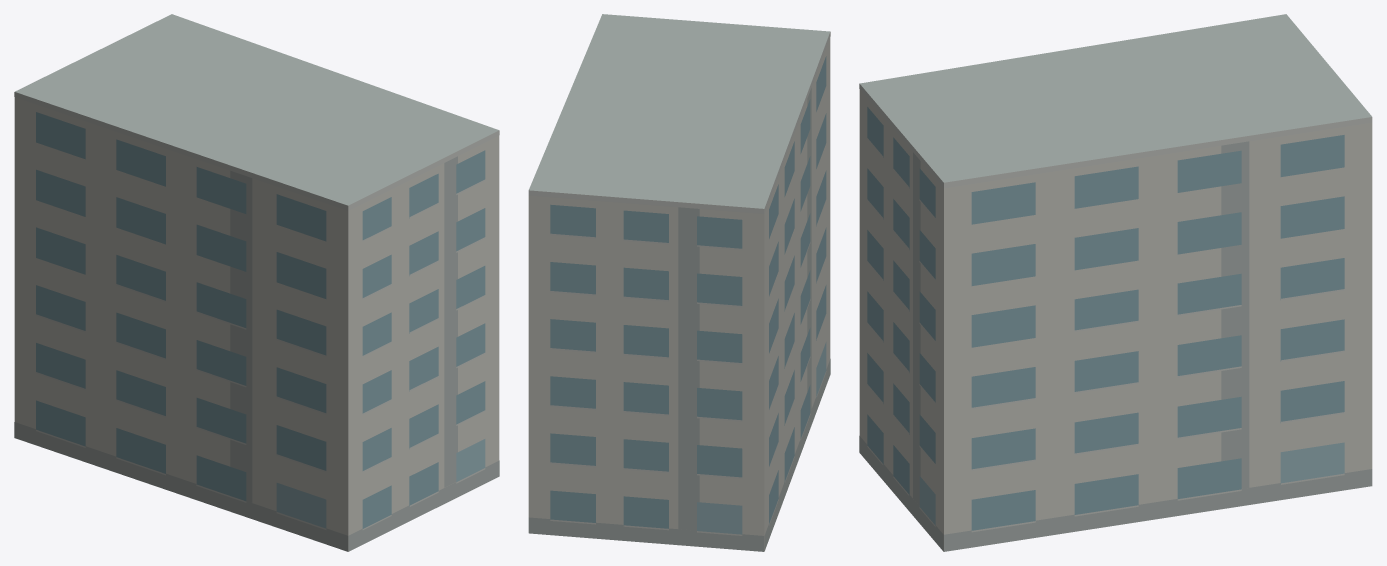
The model's file is survey-upis-33000994.glb.
3 renders of one model, left to right at view 1: azimuth 30°, elevation 25°; view 2: azimuth 150°, elevation 25°; view 3: azimuth 270°, elevation 25°, orthographic. The views are drawn at different scales.
Parts seen in each view (by area): view 1: survey-upis-33000994.tmp; view 2: survey-upis-33000994.tmp; view 3: survey-upis-33000994.tmp.
Boxes of the visible parts, x1,y1,x2,y2 form: survey-upis-33000994.tmp: [14, 14, 499, 551]; survey-upis-33000994.tmp: [528, 14, 830, 551]; survey-upis-33000994.tmp: [859, 14, 1372, 551].
Bounding box in the file's own units: 15.99 × 16.3 × 20.53.
